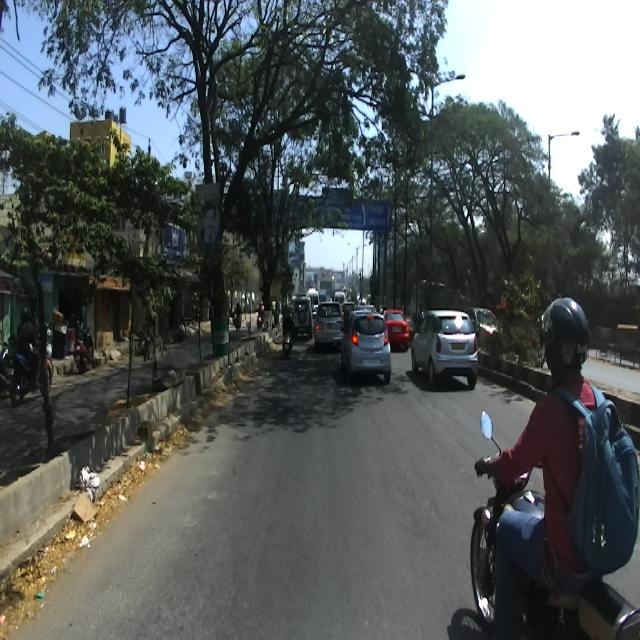car ahead at: (414, 303, 478, 402), (344, 306, 399, 384)
